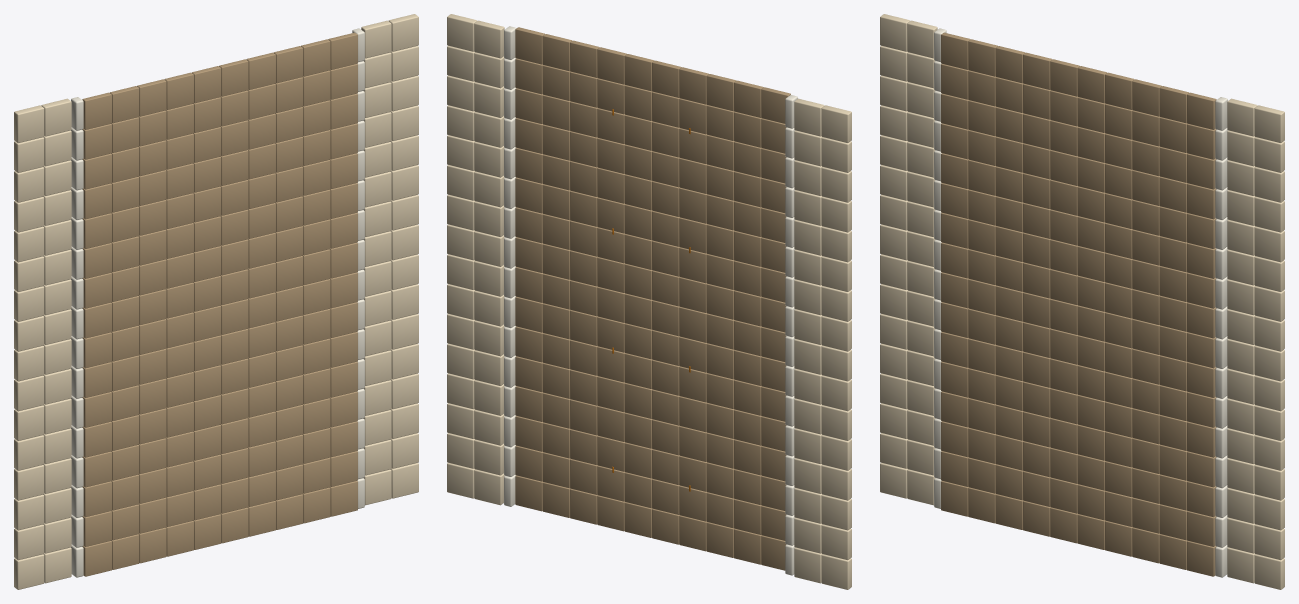
Rendered from BoulevardStreet.fbx.
The picture shows the model from 3 angles, left to right: view 1: azimuth 30°, elevation 25°; view 2: azimuth 150°, elevation 25°; view 3: azimuth 330°, elevation 25°; orthographic projection.
Parts seen in each view (by area): view 1: BoulevardStreet; view 2: BoulevardStreet; view 3: BoulevardStreet.
Part boxes in pixels (x1,y1,x2,y2): BoulevardStreet: [14, 14, 418, 589]; BoulevardStreet: [447, 14, 851, 589]; BoulevardStreet: [880, 14, 1284, 589].
Size of the model in its own units: 7.05 by 7.99 by 0.223.
